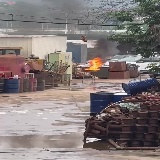fire: (84, 57, 103, 70)
